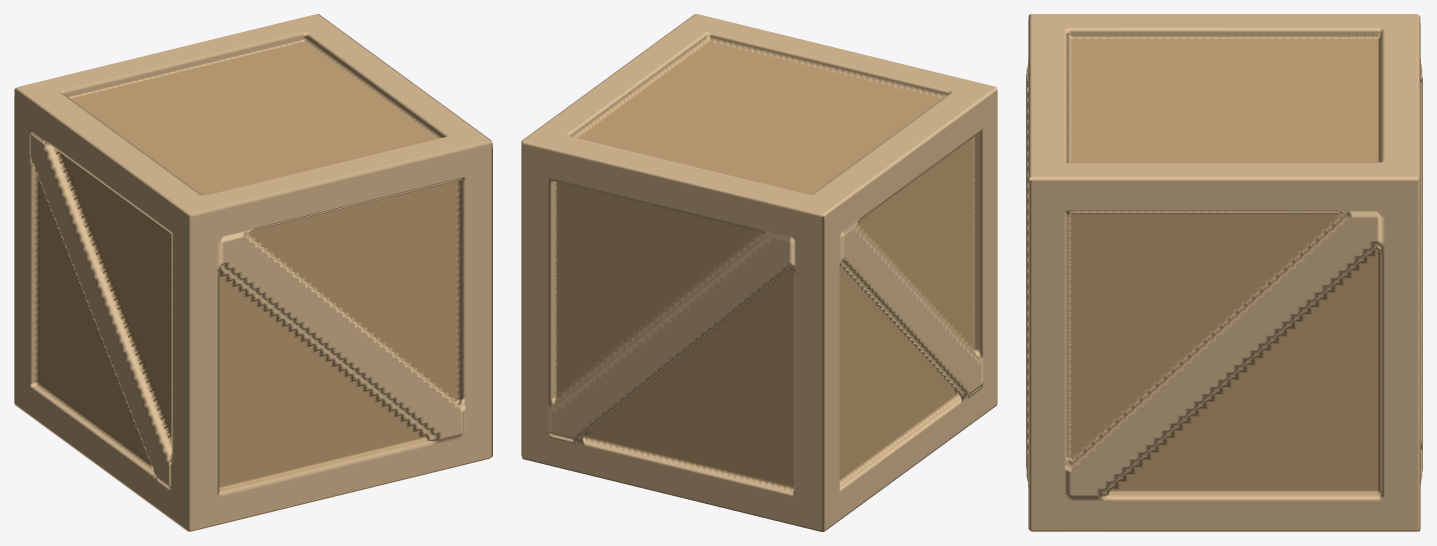
The model's file is wooden_crate.glb.
3 views of the same model, side by side, from view 1: azimuth 30°, elevation 25°; view 2: azimuth 150°, elevation 25°; view 3: azimuth 270°, elevation 25° (orthographic). The views are drawn at different scales.
Visible parts, largest first — view 1: IronSmith model; view 2: IronSmith model; view 3: IronSmith model.
Part boxes in pixels (box(x1,y1,x2,y2)): IronSmith model: box(14, 14, 492, 531); IronSmith model: box(521, 14, 997, 531); IronSmith model: box(1026, 14, 1422, 531).
Size of the model in its own units: 8.1 by 8 by 8.1.
